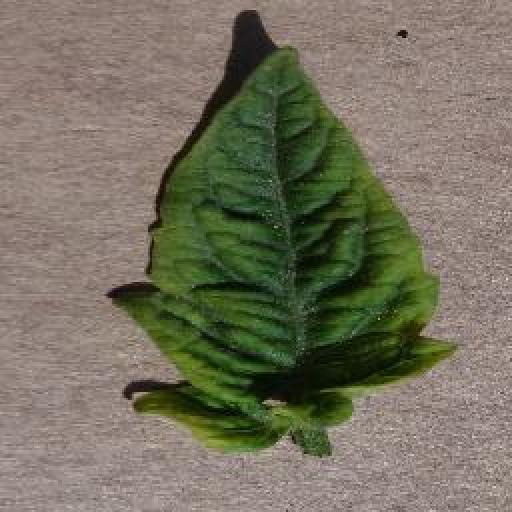disease_tomato: (116, 45, 455, 459)
